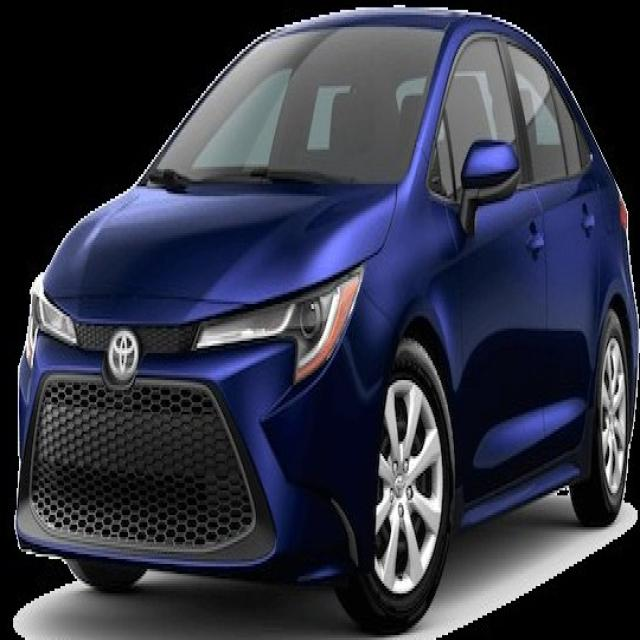blue: (12, 7, 640, 640)
